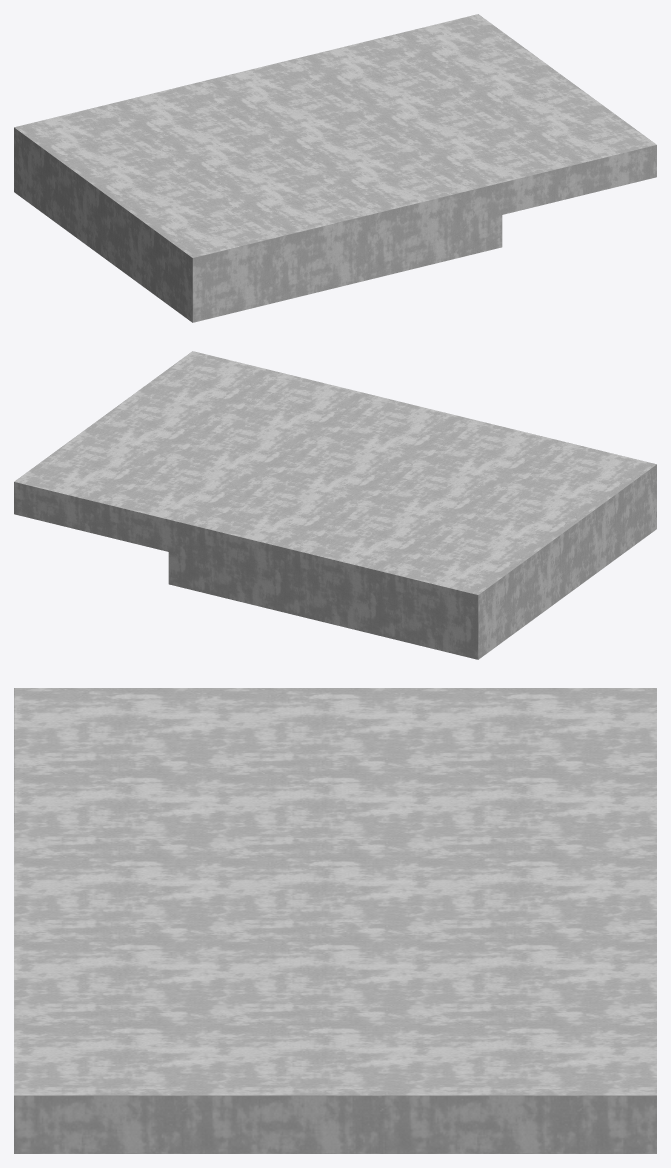
The model's file is ceiling.fbx.
3 views of the same model, one above another, from view 1: azimuth 30°, elevation 25°; view 2: azimuth 150°, elevation 25°; view 3: azimuth 270°, elevation 25° (orthographic). The views are drawn at different scales.
Visible parts, largest first — view 1: 天井; view 2: 天井; view 3: 天井.
Boxes of the visible parts, bbox=[...] form: 天井: bbox=[14, 14, 656, 322]; 天井: bbox=[14, 351, 656, 659]; 天井: bbox=[14, 688, 656, 1153].
Size of the model in its own units: 3000 by 400 by 2000.
1 material, 1 textured.
